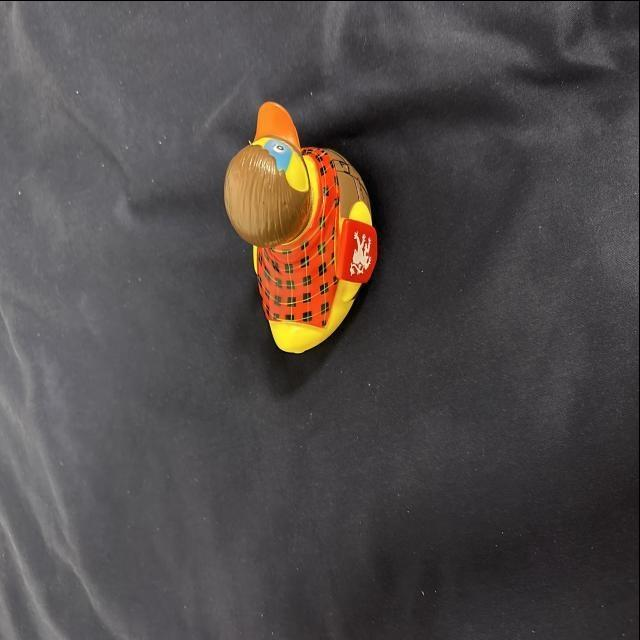rubber-duck: (223, 101, 375, 351)
